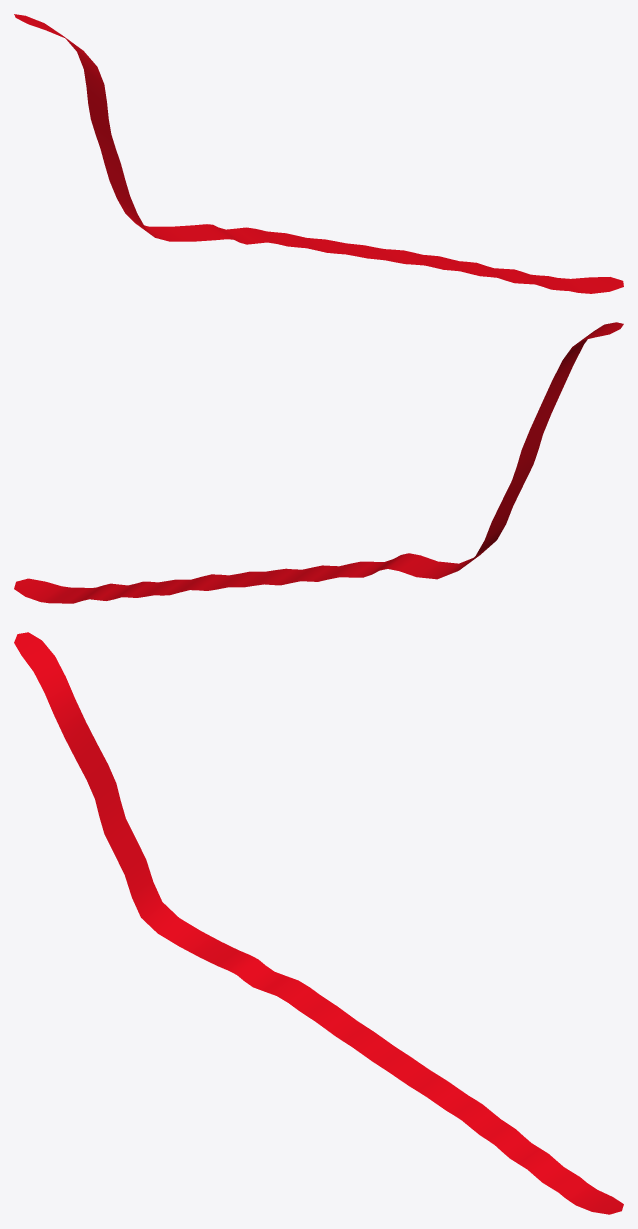
The model's file is hair5.fbx.
3 renders of one model, top to bottom at view 1: azimuth 30°, elevation 25°; view 2: azimuth 150°, elevation 25°; view 3: azimuth 330°, elevation 25°, orthographic. The views are drawn at different scales.
Visible parts, largest first — view 1: Plane.007; view 2: Plane.007; view 3: Plane.007.
Boxes of the visible parts, x1=… form: Plane.007: x1=14, y1=14, x2=623, y2=293; Plane.007: x1=14, y1=322, x2=623, y2=603; Plane.007: x1=14, y1=632, x2=623, y2=1214.
Bounding box in the file's own units: 5234 × 3352 × 680.
